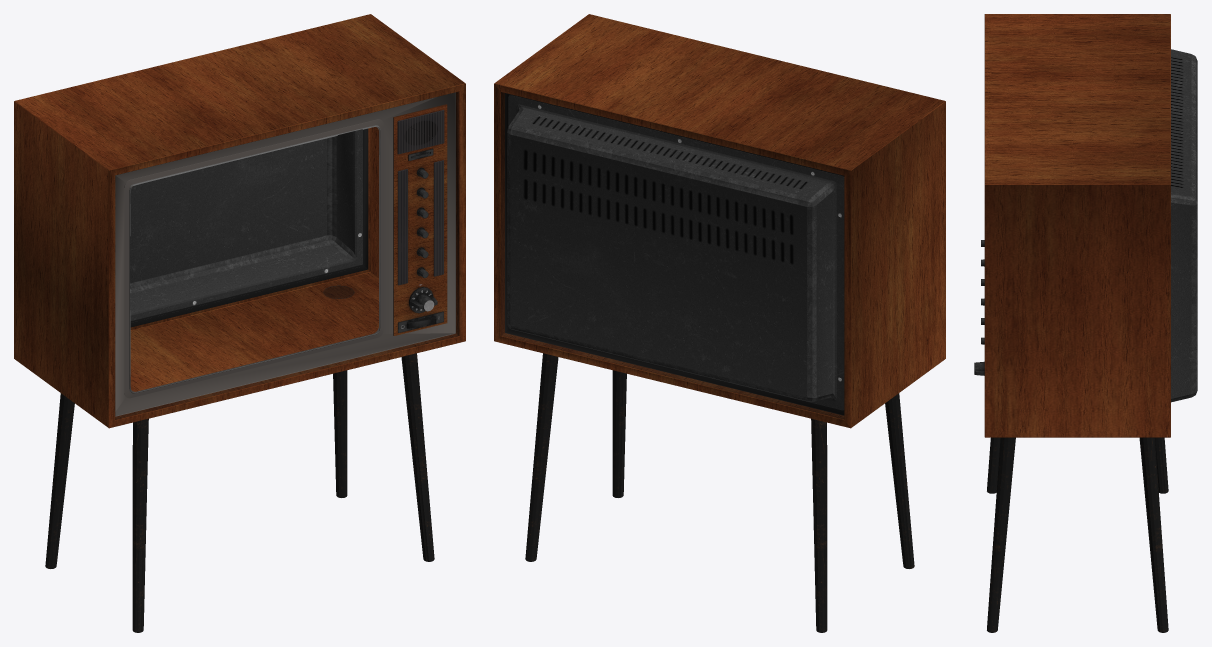
The model's file is tv-set.glb.
3 views of the same model, side by side, from view 1: azimuth 30°, elevation 25°; view 2: azimuth 150°, elevation 25°; view 3: azimuth 270°, elevation 25° (orthographic). The views are drawn at different scales.
Visible parts, largest first — view 1: TV; view 2: TV; view 3: TV.
Part boxes in pixels (left/top/right/bottom): TV: left=14, top=14, right=465, bottom=632; TV: left=494, top=14, right=945, bottom=632; TV: left=981, top=14, right=1197, bottom=632.
Bounding box in the file's own units: 0.2024 × 0.2552 × 0.1119.
Materials: 1 (1 with a texture image).
